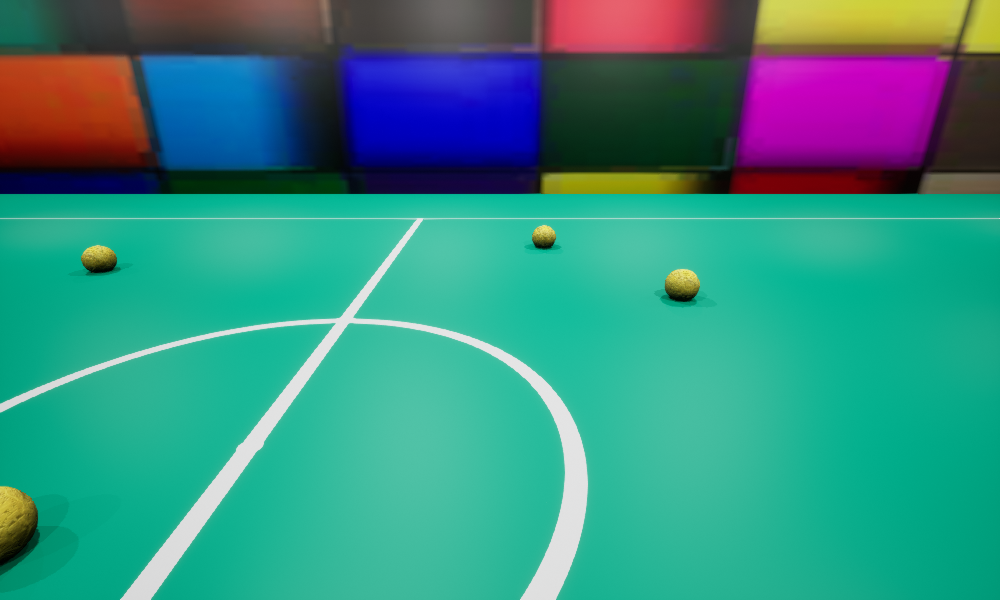b: (0, 486, 37, 562), (665, 269, 699, 300), (81, 245, 116, 272), (532, 225, 555, 247)
